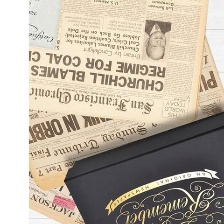news_paper: (28, 29, 224, 192), (6, 0, 211, 128), (23, 163, 88, 224)
